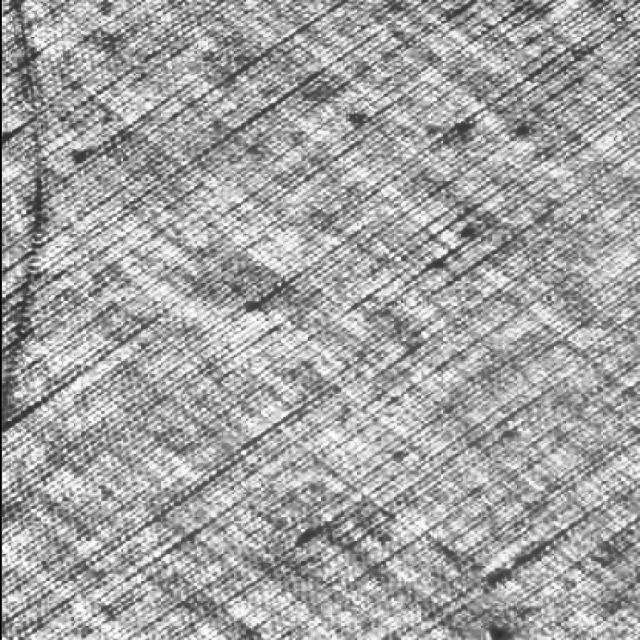thread_error: (3, 0, 63, 382)
